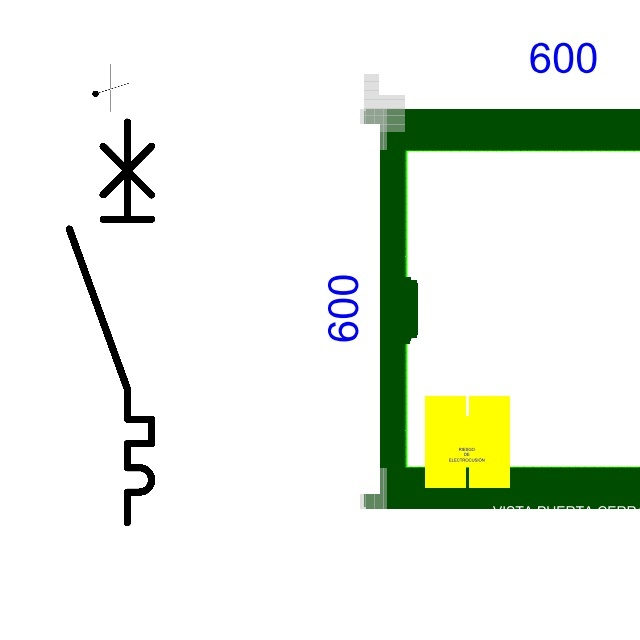interruptor_termomagnetico: (59, 111, 162, 532)
